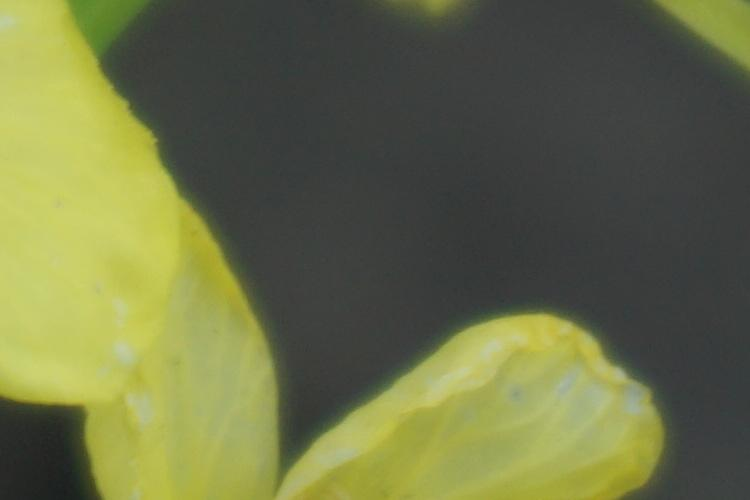yellow: (15, 69, 678, 491)
